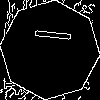I: (25, 25, 72, 44)
